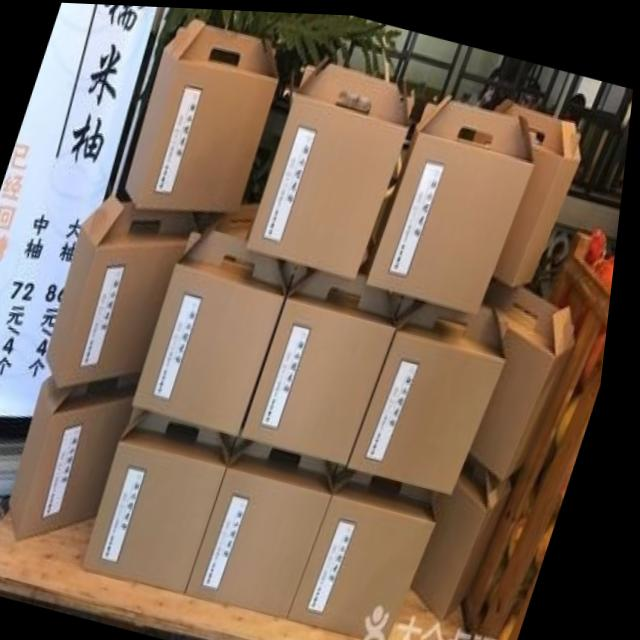box: (250, 44, 417, 278), (369, 90, 538, 308), (140, 209, 294, 431), (357, 295, 516, 490), (52, 192, 207, 388), (250, 266, 405, 462), (127, 19, 280, 210), (196, 433, 344, 619), (94, 410, 239, 593), (300, 466, 446, 640), (20, 369, 149, 542), (479, 270, 584, 474), (495, 91, 584, 281), (423, 452, 522, 617)
